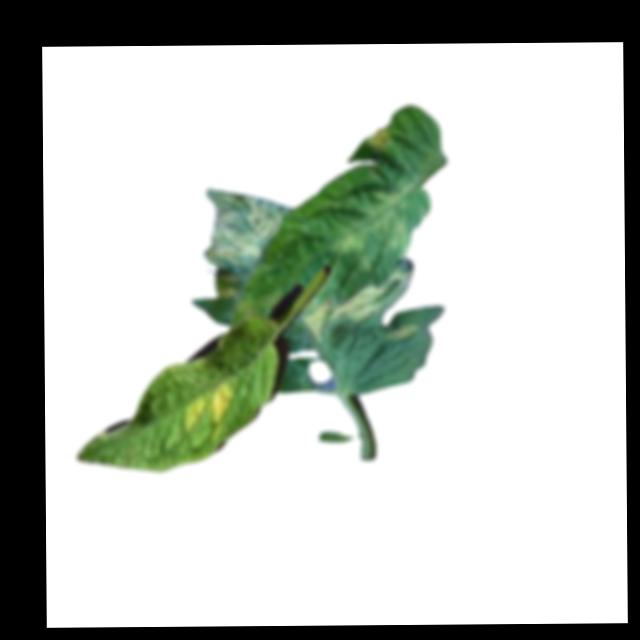Leaf_Mold: (302, 276, 406, 346), (202, 188, 279, 266), (322, 187, 404, 258), (183, 379, 235, 435), (365, 121, 392, 150), (391, 323, 420, 341)
